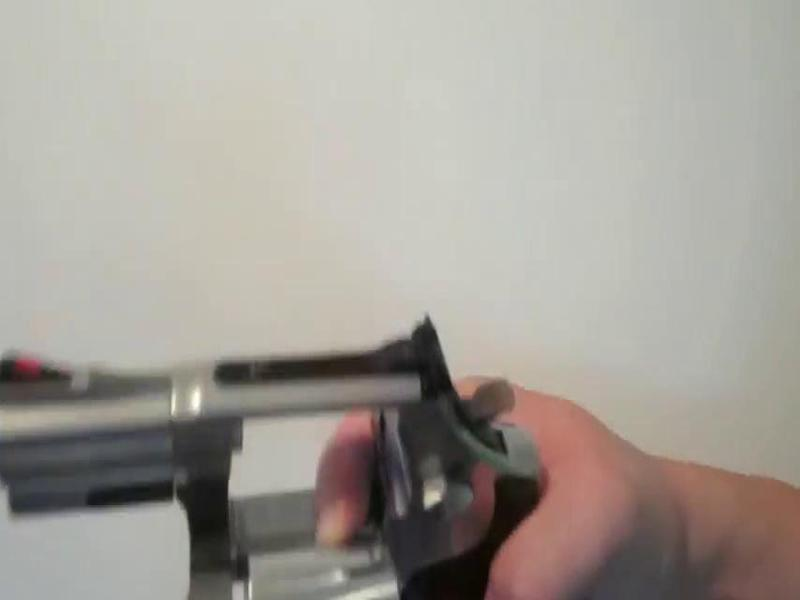Revolver: (4, 314, 562, 600)
